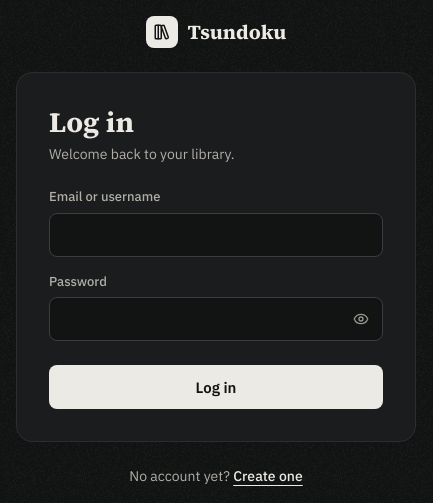
Test: LoginPage › sends an identifier with @ as the email and anything else as the username
The width and height of the screenshot is (433, 503).
Type "reader@example.com" into the field labelled "Email or username".
click(216, 235); type("reader@example.com")  # box top-left (49, 213), bottom-right (383, 257)
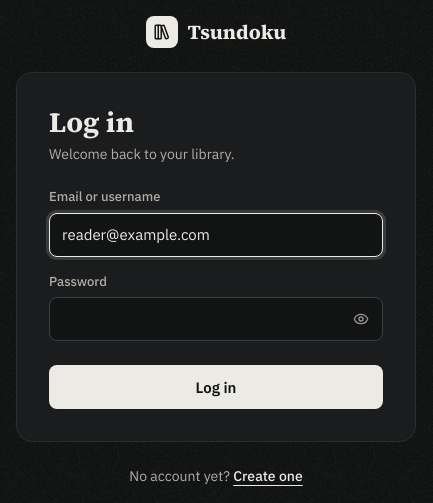
Type "secret" into the password field labelled "Password".
click(216, 320); type("secret")  # box top-left (49, 298), bottom-right (383, 342)
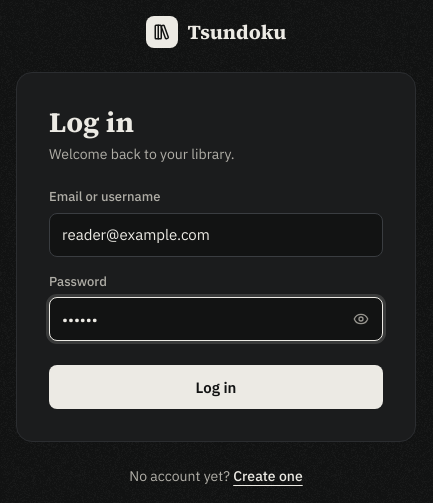
Click the button "Log in".
click(216, 388)  # box top-left (49, 366), bottom-right (383, 410)
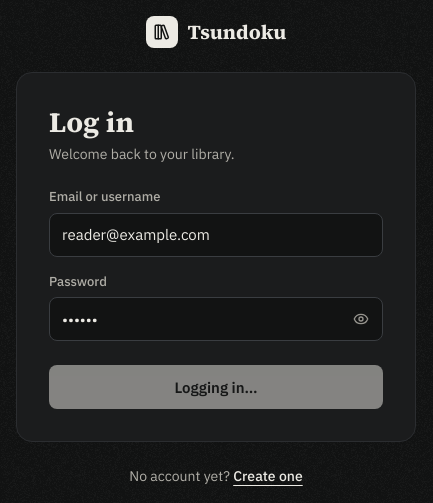
Expected: the button "Logging in…" is disabled, top-left (49, 366), bottom-right (383, 410)
